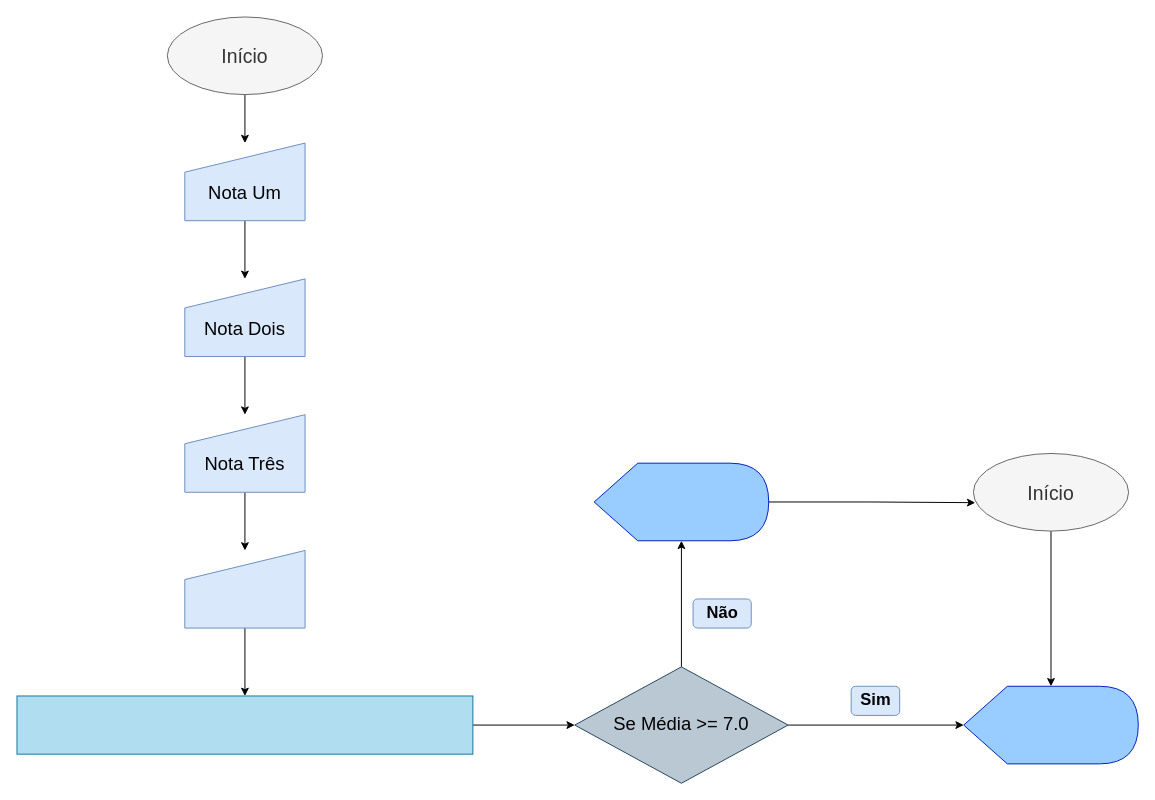
Some shapes in this 1155 by 800 pixel diagram are drawn without their labels. The centre of each missing label's shape, as x and y in pixels:
"Aprovado" goes at point 1050,724.
"Média = (Nota Um + Nota Dois + Nota Três + Nota Quatro) / 4" goes at point 244,724.
"Nota Quatro" goes at point 244,589.
"Reprovado" goes at point 681,501.
